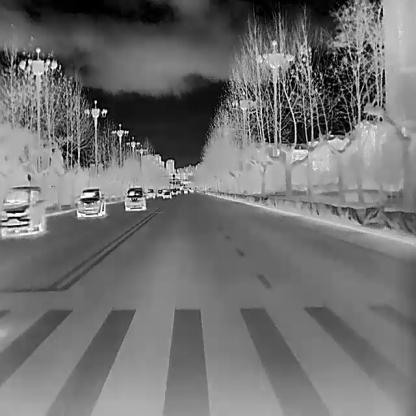car: (0, 184, 46, 235), (76, 187, 106, 216), (124, 186, 146, 210), (146, 188, 154, 199), (162, 191, 171, 198), (157, 190, 162, 198)
